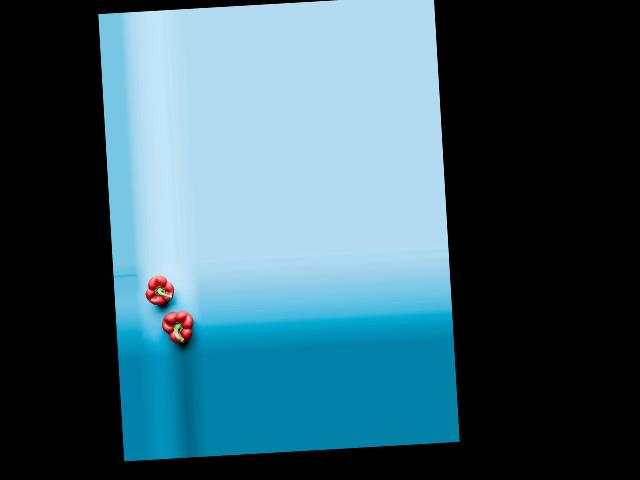bell_pepper: (157, 304, 194, 348)
